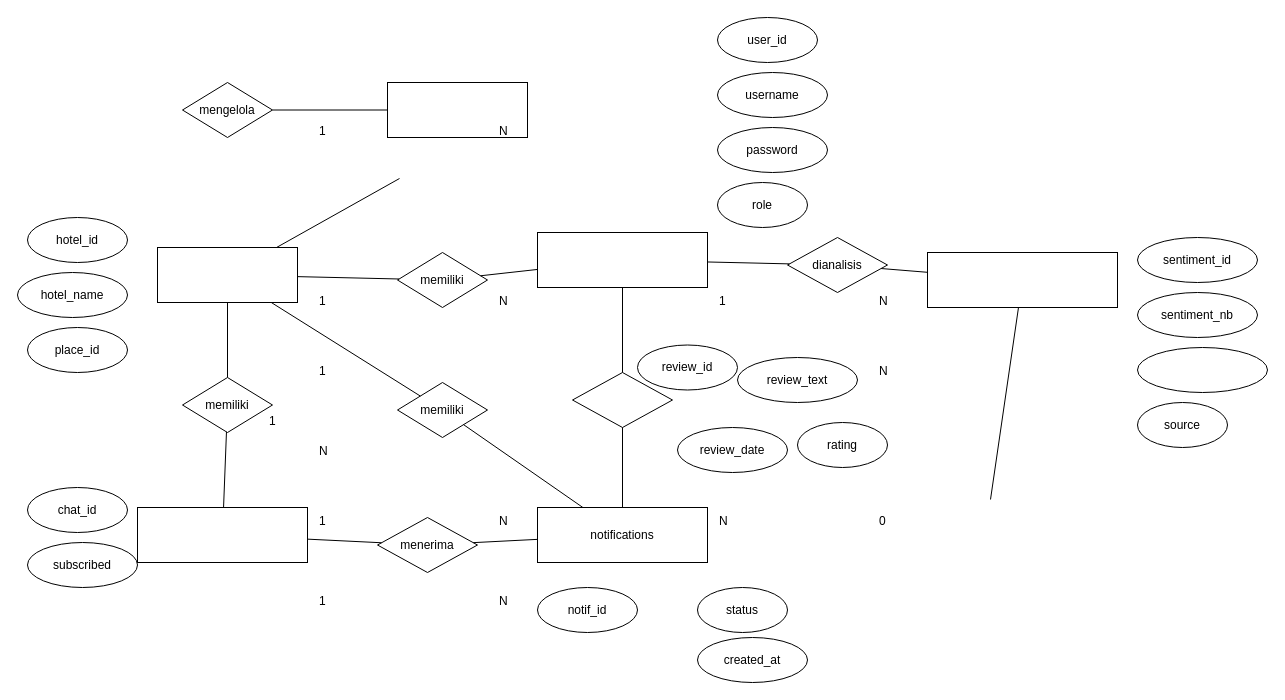
Image size: 1285x700. Some labels were removed from this diagram. Each missing label, with the box of its shape:
hotel_reviews: (536, 232, 708, 288)
hotels: (156, 246, 298, 302)
memicu: (572, 372, 672, 428)
sentiment_reviews: (926, 252, 1118, 308)
sentiment_svm: (1136, 346, 1268, 392)
telegram_users: (136, 506, 308, 562)
users: (386, 82, 528, 138)
